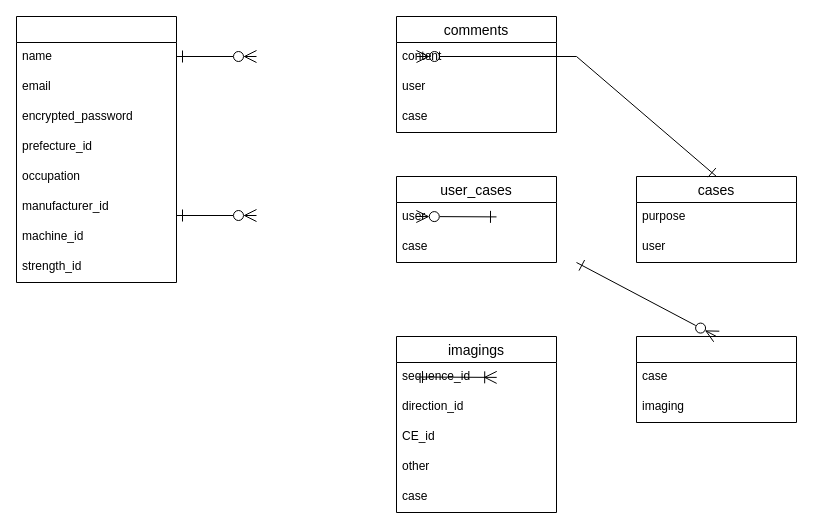
Some shapes in this 813 by 529 pixel diagram are drawn without their labels. The box of each missing label's shape, as (x1, y1, x2, y2) in pixels:
case_imagings: (636, 336, 796, 422)
users: (16, 16, 176, 282)
